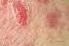plaque psoriasis: (11, 1, 30, 27), (45, 11, 59, 30), (15, 44, 53, 46), (37, 0, 48, 3)
